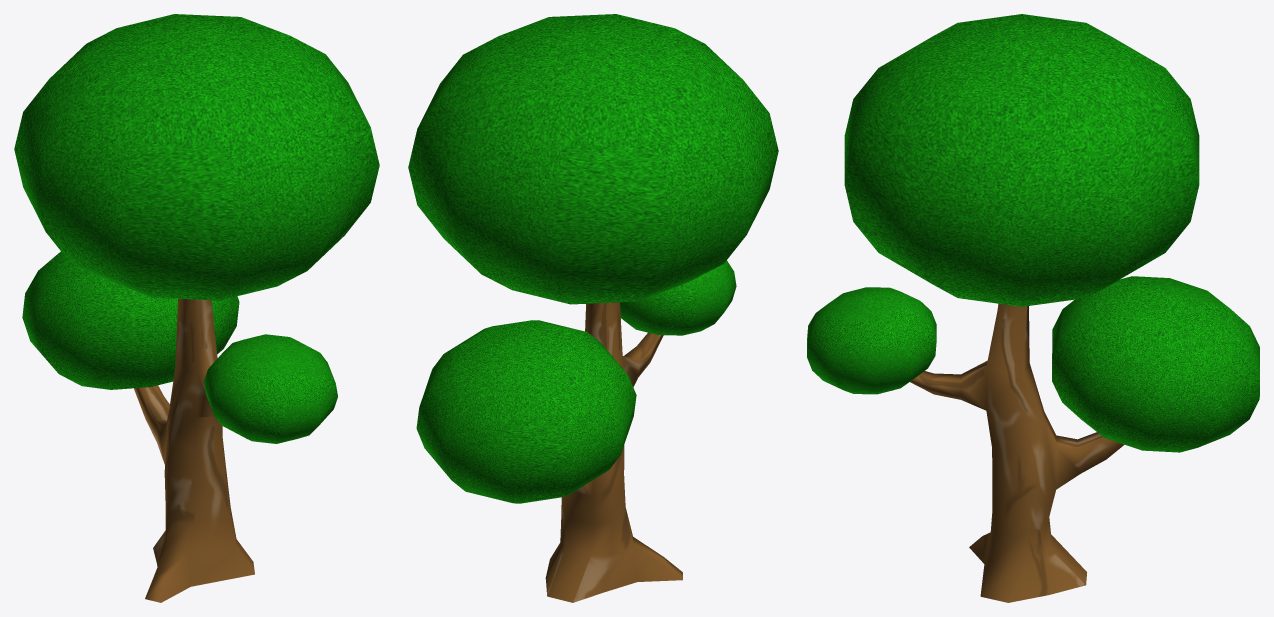
File: Tree2.fbx
The picture shows the model from 3 angles, left to right: view 1: azimuth 30°, elevation 25°; view 2: azimuth 150°, elevation 25°; view 3: azimuth 270°, elevation 25°; orthographic projection.
Parts seen in each view (by area): view 1: Tree2; view 2: Tree2; view 3: Tree2.
Part boxes in pixels (bbox=[...]): Tree2: bbox=[14, 14, 379, 602]; Tree2: bbox=[408, 14, 778, 602]; Tree2: bbox=[807, 14, 1259, 602].
Size of the model in its own units: 19.44 by 31.15 by 23.61.
